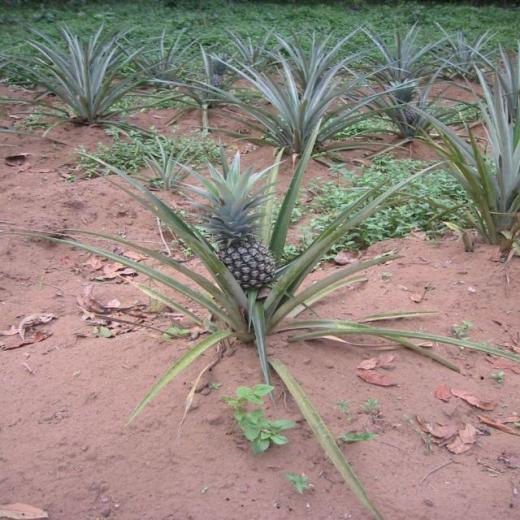Mango: (169, 138, 296, 291), (390, 78, 422, 119), (208, 51, 230, 85)
